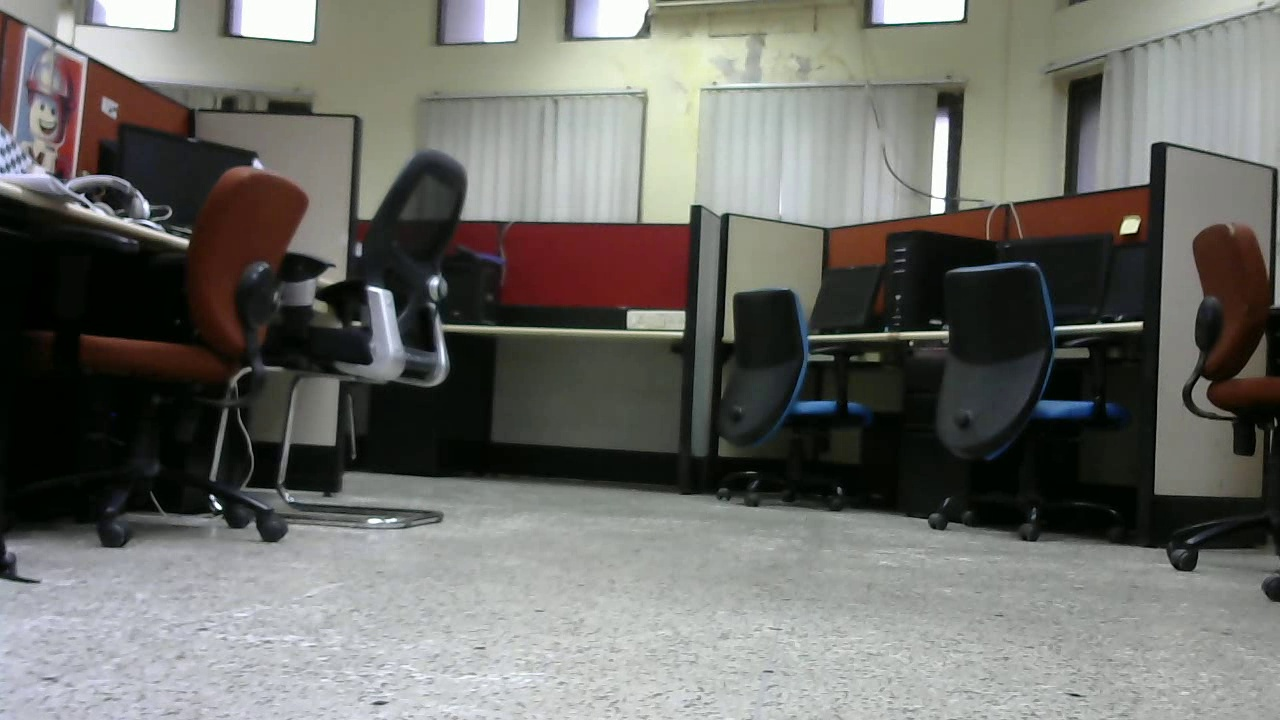chair: (57, 169, 312, 545), (310, 150, 471, 532), (915, 259, 1122, 551), (1150, 214, 1280, 608), (702, 282, 873, 515)
